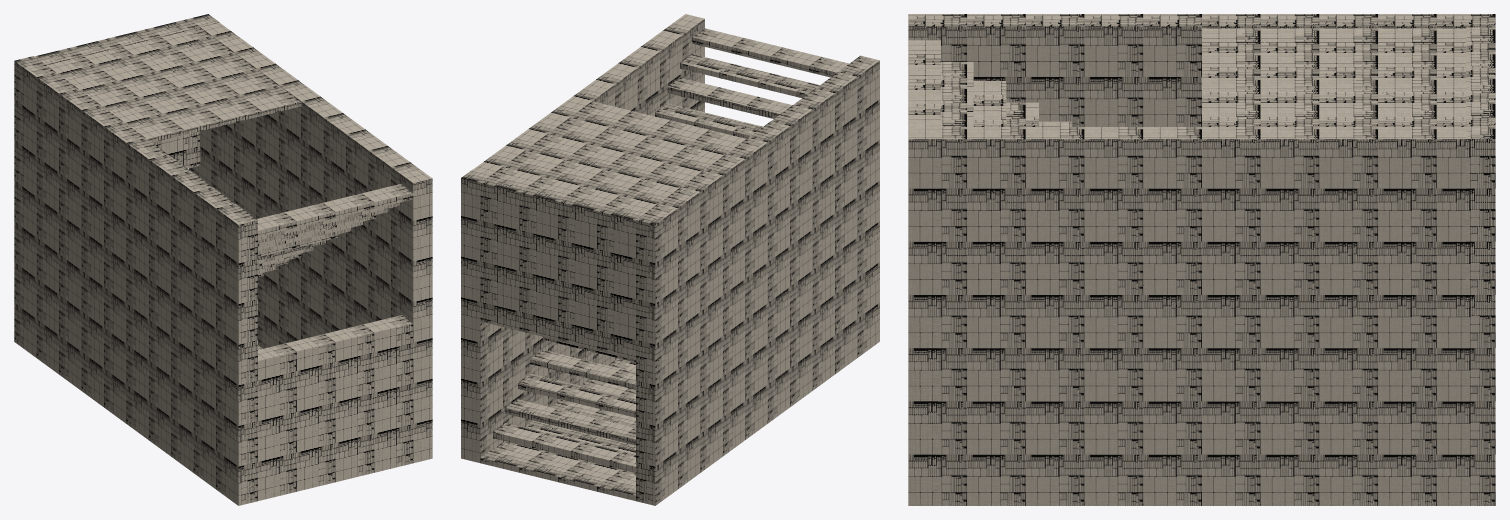
File: dungeon_ramp.glb
3 renders of one model, left to right at view 1: azimuth 30°, elevation 25°; view 2: azimuth 150°, elevation 25°; view 3: azimuth 270°, elevation 25°, orthographic. The views are drawn at different scales.
Visible parts, largest first — view 1: dungeon_ramp; view 2: dungeon_ramp; view 3: dungeon_ramp.
Part boxes in pixels (bbox=[...]): dungeon_ramp: bbox=[14, 14, 432, 505]; dungeon_ramp: bbox=[461, 14, 879, 505]; dungeon_ramp: bbox=[908, 14, 1495, 505].
Size of the model in its own units: 5 by 6.91 by 10.
Materials: 1 (1 with a texture image).
